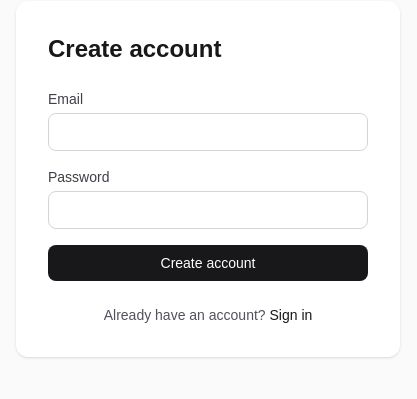
Scenario: Onboarding flow › Step 1 — Registration › shows validation errors when submitted empty
Click the button "Create account".
click(208, 263)  # box [48,245,368,281]
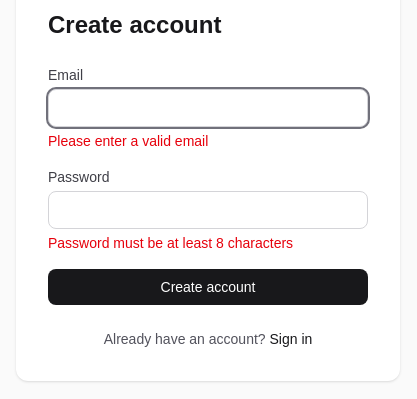
Check: the message "Please enter a valid email" is shown, box [48,133,208,149]
